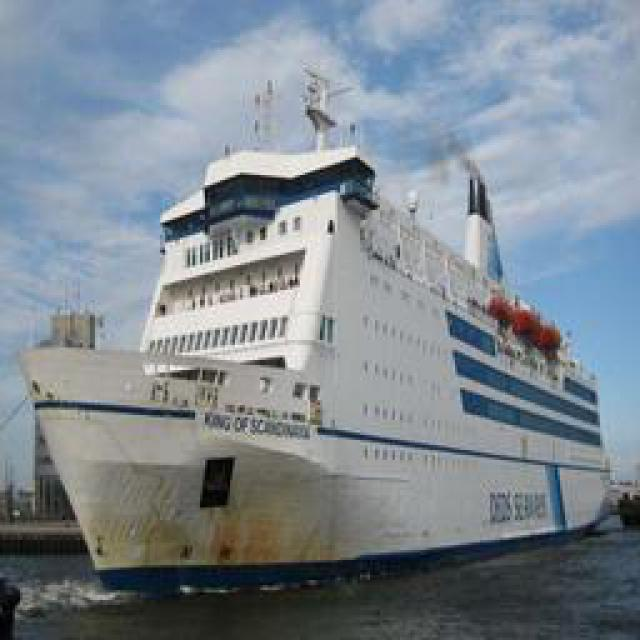Ship: (19, 100, 624, 588)
